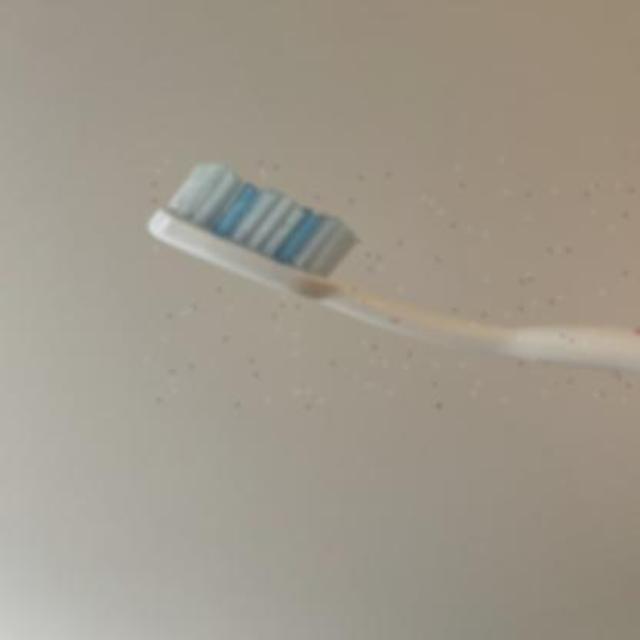toothbrush: (144, 159, 640, 409)
